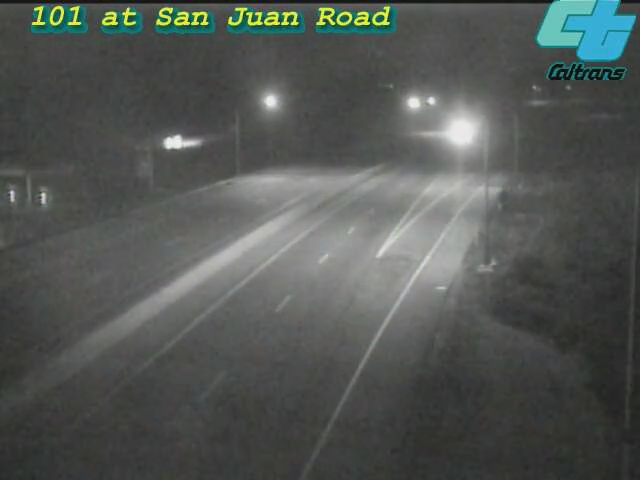vehicle: (435, 108, 485, 158)
